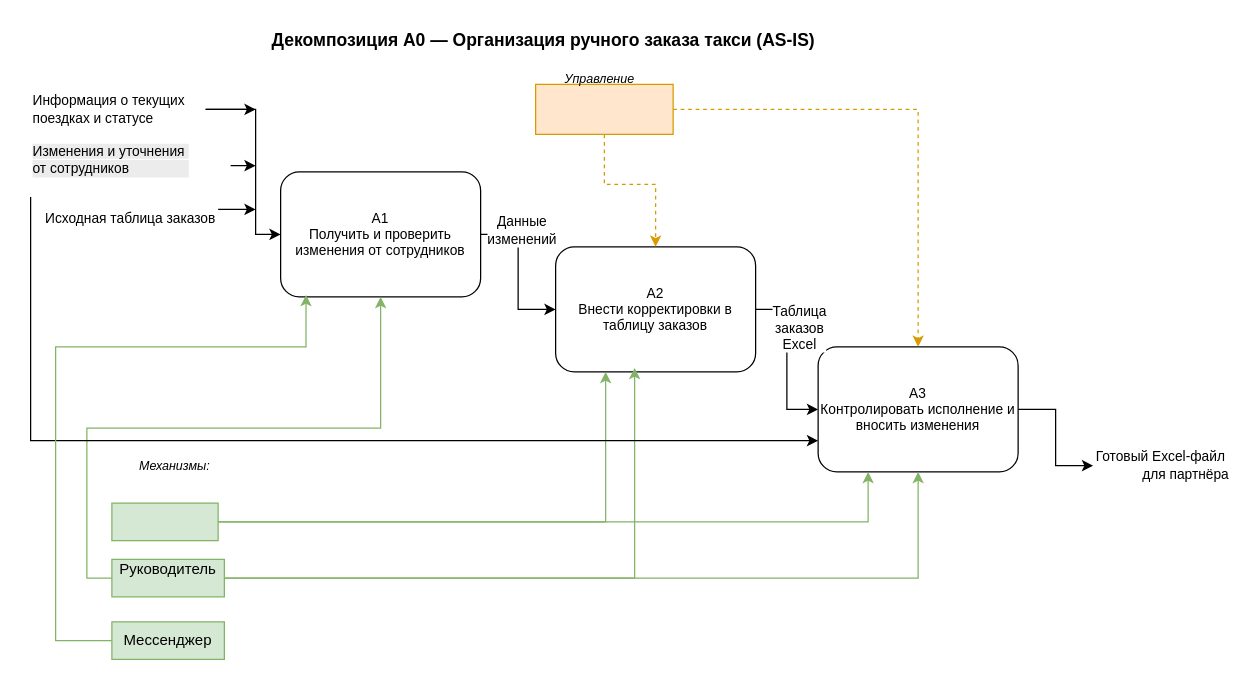
Some shapes in this 1253 by 681 pixel diagram are drawn without their labels. The centre of each missing label's shape, as x and y in pixels:
Excel: pixel 164 521
Форма таблицы: pixel 603 108
